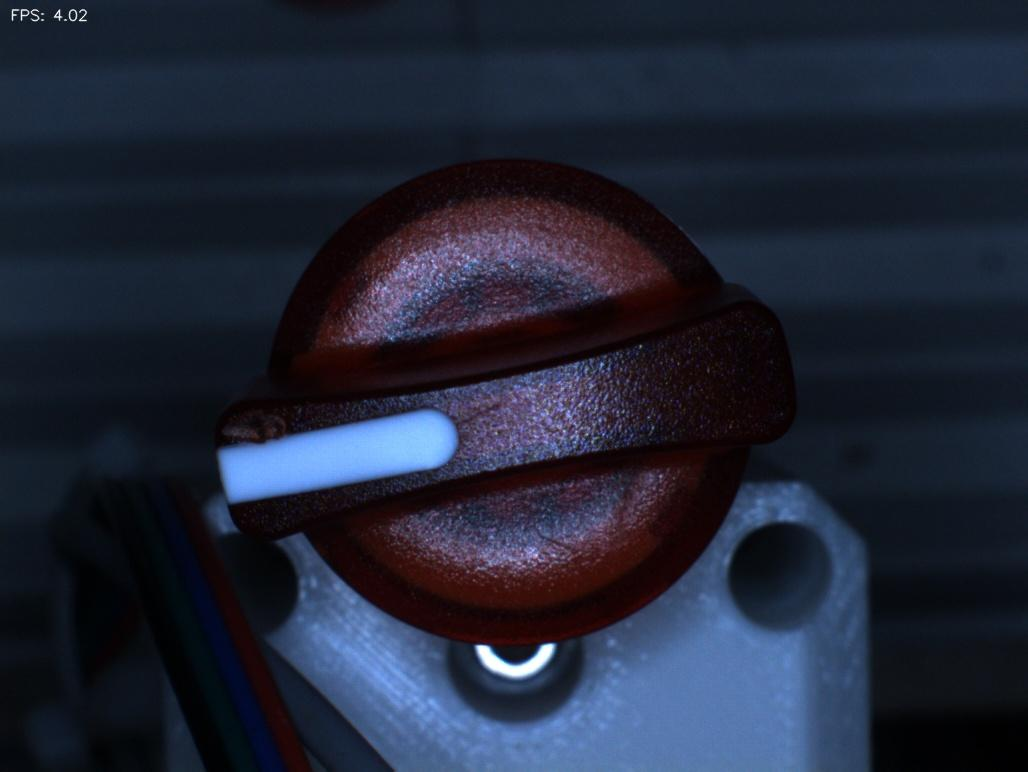Choc: (215, 391, 298, 468)
